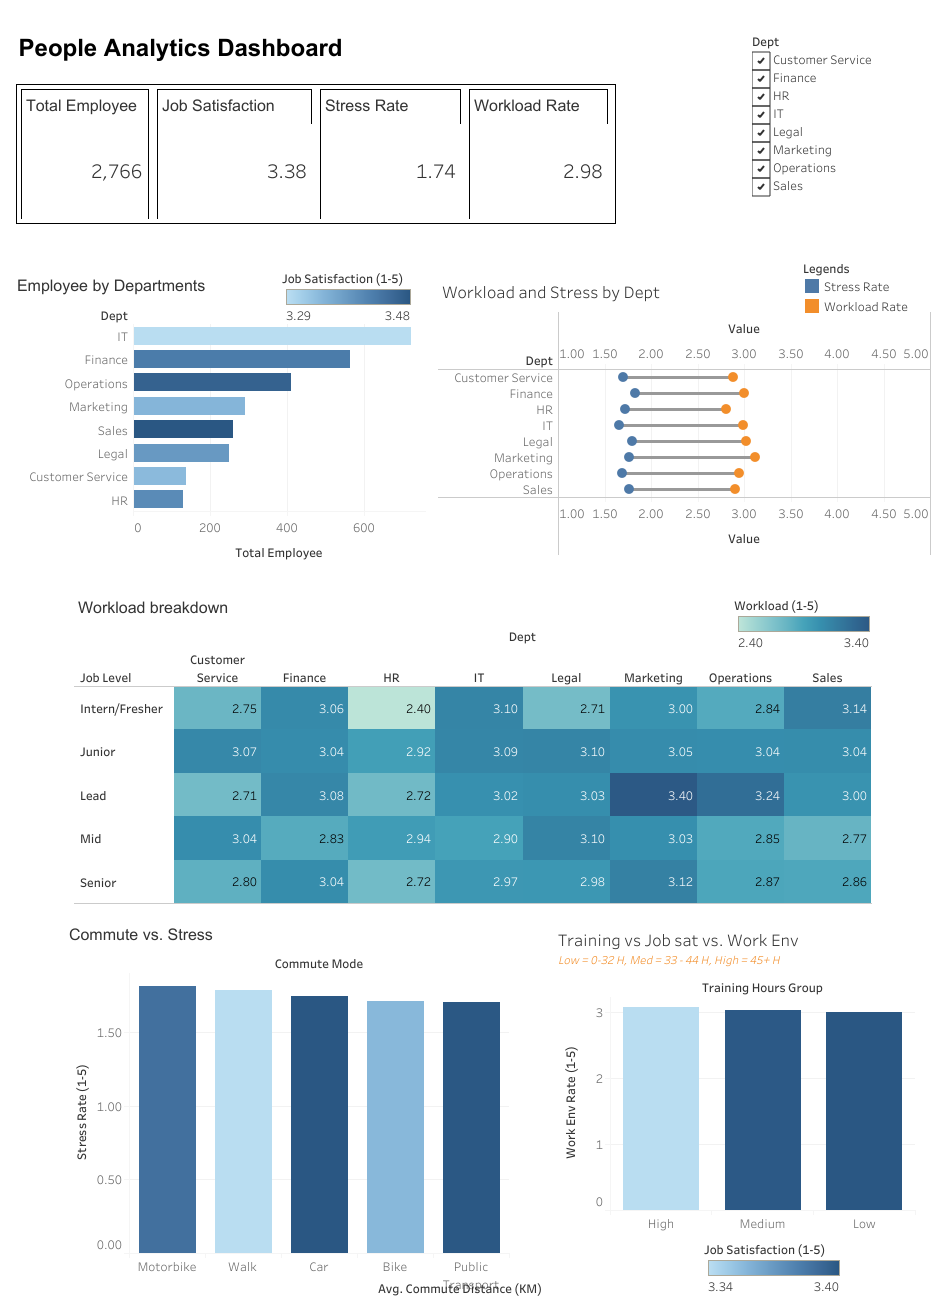

The page's visual inventory and layout, read from the dashboard file:
{"tool":"tableau","page":{"name":"Dashboard 1","canvas":[950,1300],"ordinal":0},"visuals":[{"type":"text","box":[16,18,390,60]},{"type":"filter","title":"Commute vs Stress","param":"[federated.1nxwwlp1yrn3te1gwbbxe0umhuqb].[none:dept:nk]","box":[752,31,188,195]},{"type":"worksheet","title":"Total Employee","mark":"Automatic","box":[17,85,136,138]},{"type":"worksheet","title":"Avg Job Satisfaction","mark":"Automatic","box":[153,85,163,138]},{"type":"worksheet","title":"Avg Stress Level","mark":"Automatic","box":[316,85,149,138]},{"type":"worksheet","title":"Avg Workload","mark":"Automatic","box":[465,85,147,138]},{"type":"legend","title":"WL + Stress per Dept","param":"[federated.1nxwwlp1yrn3te1gwbbxe0umhuqb].[:Measure Names]","box":[802,257,140,58]},{"type":"legend","title":"Emp by Dept","param":"[federated.1nxwwlp1yrn3te1gwbbxe0umhuqb].[avg:job_satisfaction:qk]","box":[282,265,133,59]},{"type":"worksheet","title":"Emp by Dept","mark":"Automatic","rows":["dept"],"cols":["emp_id"],"box":[13,270,412,298]},{"type":"worksheet","title":"WL + Stress per Dept","mark":"Line","rows":["dept"],"box":[438,274,493,281]},{"type":"worksheet","title":"Workload breakdown","mark":"Square","rows":["job_level"],"cols":["dept"],"box":[74,592,798,312]},{"type":"legend","title":"Workload breakdown","param":"[federated.1nxwwlp1yrn3te1gwbbxe0umhuqb].[avg:workload:qk]","box":[734,592,140,70]},{"type":"worksheet","title":"Commute vs Stress","mark":"Automatic","rows":["stress"],"cols":["commute_mode"],"box":[65,919,444,374]},{"type":"worksheet","title":"Training vs Job sat vs. Work Env","mark":"Automatic","rows":["work_env"],"box":[554,922,361,310]}]}

Visuals, with their boxes in screenshot pixels (x1, y1, x2, y2), scaled from the page's 950x1300 canvas onto the 949x1299 screenshot:
text: {"x1": 16, "y1": 18, "x2": 406, "y2": 78}
"Commute vs Stress" filter: {"x1": 751, "y1": 31, "x2": 939, "y2": 226}
"Total Employee" worksheet: {"x1": 17, "y1": 85, "x2": 153, "y2": 223}
"Avg Job Satisfaction" worksheet: {"x1": 153, "y1": 85, "x2": 316, "y2": 223}
"Avg Stress Level" worksheet: {"x1": 316, "y1": 85, "x2": 465, "y2": 223}
"Avg Workload" worksheet: {"x1": 465, "y1": 85, "x2": 611, "y2": 223}
"WL + Stress per Dept" legend: {"x1": 801, "y1": 257, "x2": 941, "y2": 315}
"Emp by Dept" legend: {"x1": 282, "y1": 265, "x2": 415, "y2": 324}
"Emp by Dept" worksheet: {"x1": 13, "y1": 270, "x2": 425, "y2": 568}
"WL + Stress per Dept" worksheet (Line marks): {"x1": 438, "y1": 274, "x2": 930, "y2": 555}
"Workload breakdown" worksheet (Square marks): {"x1": 74, "y1": 592, "x2": 871, "y2": 903}
"Workload breakdown" legend: {"x1": 733, "y1": 592, "x2": 873, "y2": 661}
"Commute vs Stress" worksheet: {"x1": 65, "y1": 918, "x2": 508, "y2": 1292}
"Training vs Job sat vs. Work Env" worksheet: {"x1": 553, "y1": 921, "x2": 914, "y2": 1231}
